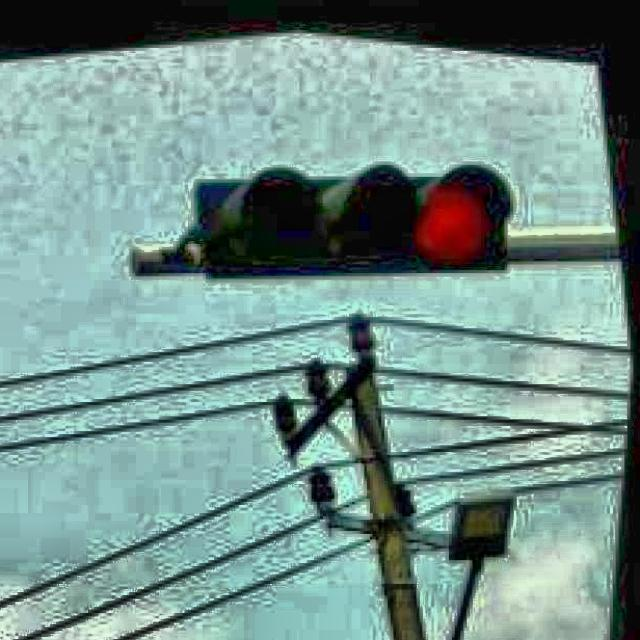red: (191, 164, 505, 274)
